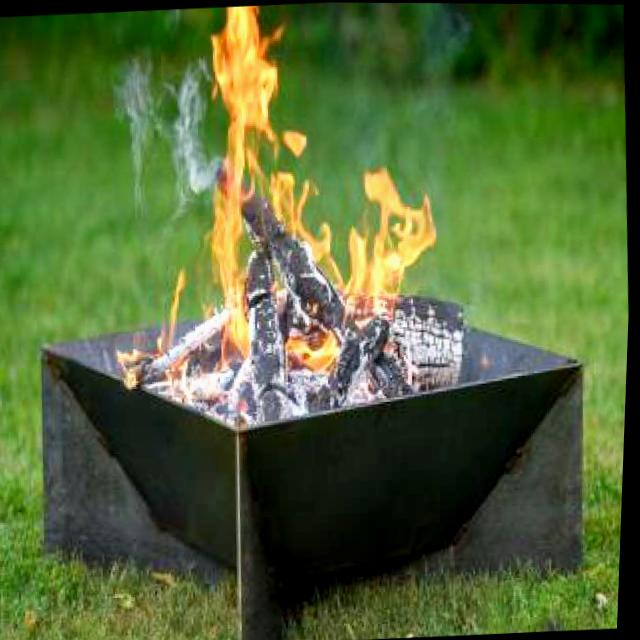Fire: (193, 5, 453, 388)
Smoke: (100, 34, 212, 230)
